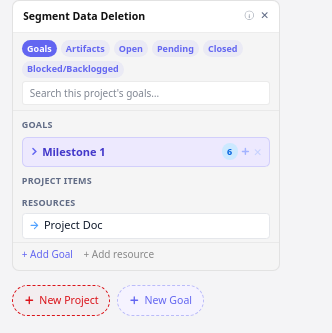
Test case: ProjectGoals — project aggregate views › Closed tab shows Done items
Click the button "Closed" at (223, 48), box top-left (203, 40), bottom-right (243, 57)
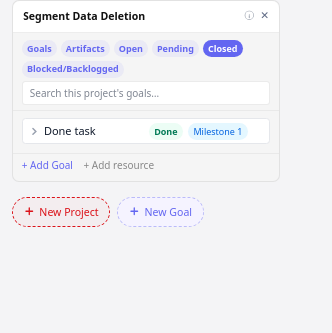
Now the text "Done task" is shown, box top-left (44, 123), bottom-right (96, 138)
